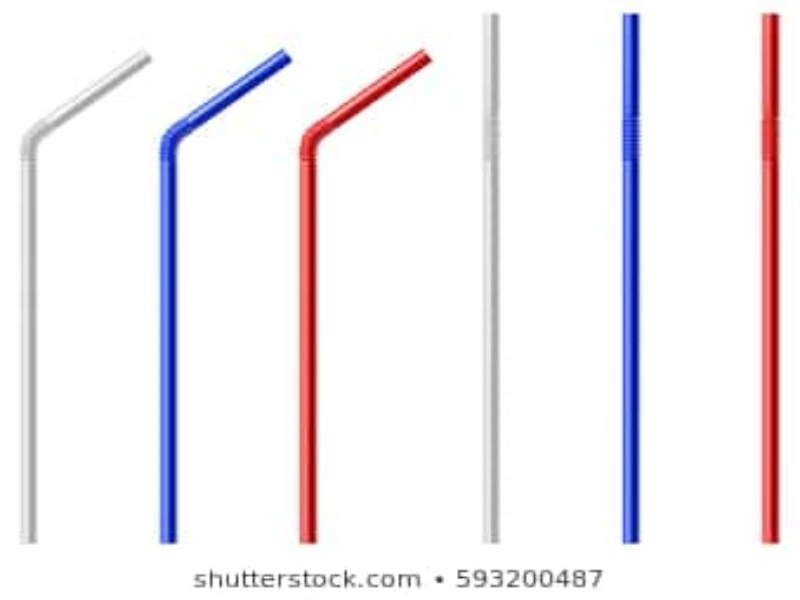straw: (296, 50, 436, 544), (154, 47, 294, 541), (12, 49, 152, 543), (476, 13, 513, 543), (751, 12, 788, 542), (614, 15, 651, 545)
